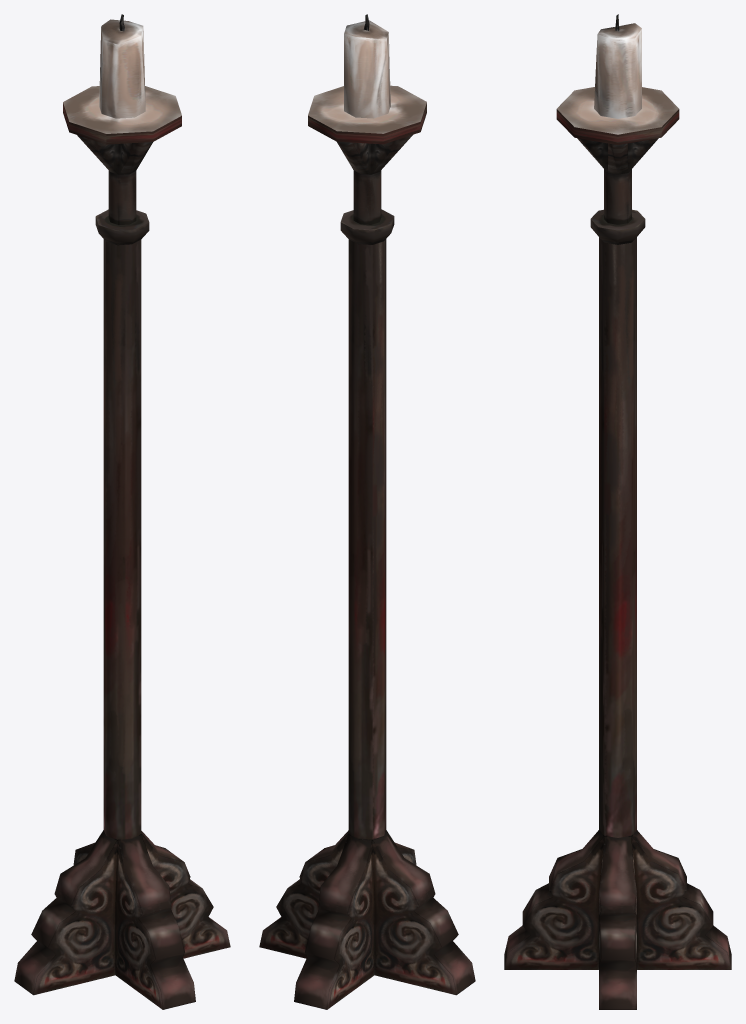
File: PRP_LanternB.FBX
3 renders of one model, left to right at view 1: azimuth 30°, elevation 25°; view 2: azimuth 150°, elevation 25°; view 3: azimuth 270°, elevation 25°, orthographic.
Parts seen in each view (by area): view 1: PRP_LanternB; view 2: PRP_LanternB; view 3: PRP_LanternB.
Boxes of the visible parts, bbox=[...] form: PRP_LanternB: bbox=[14, 14, 230, 1009]; PRP_LanternB: bbox=[259, 14, 475, 1009]; PRP_LanternB: bbox=[504, 14, 731, 1009].
Size of the model in its own units: 47.14 by 217 by 47.14.
1 material, 1 textured.
